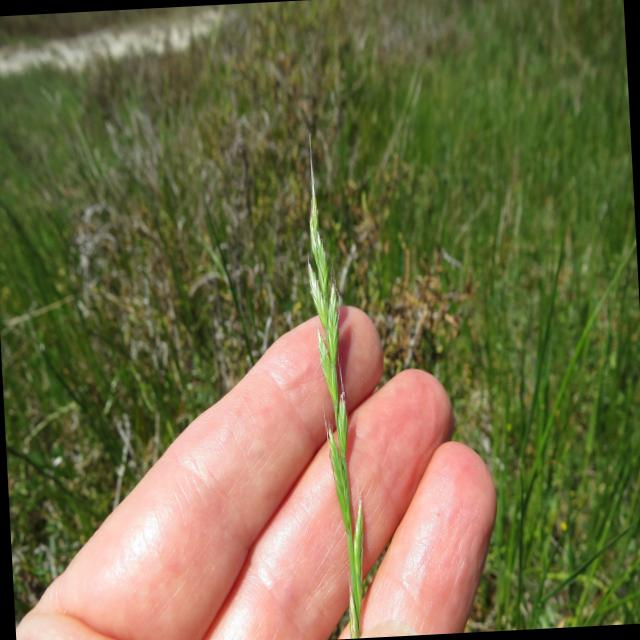Lolium: (296, 128, 372, 638)
